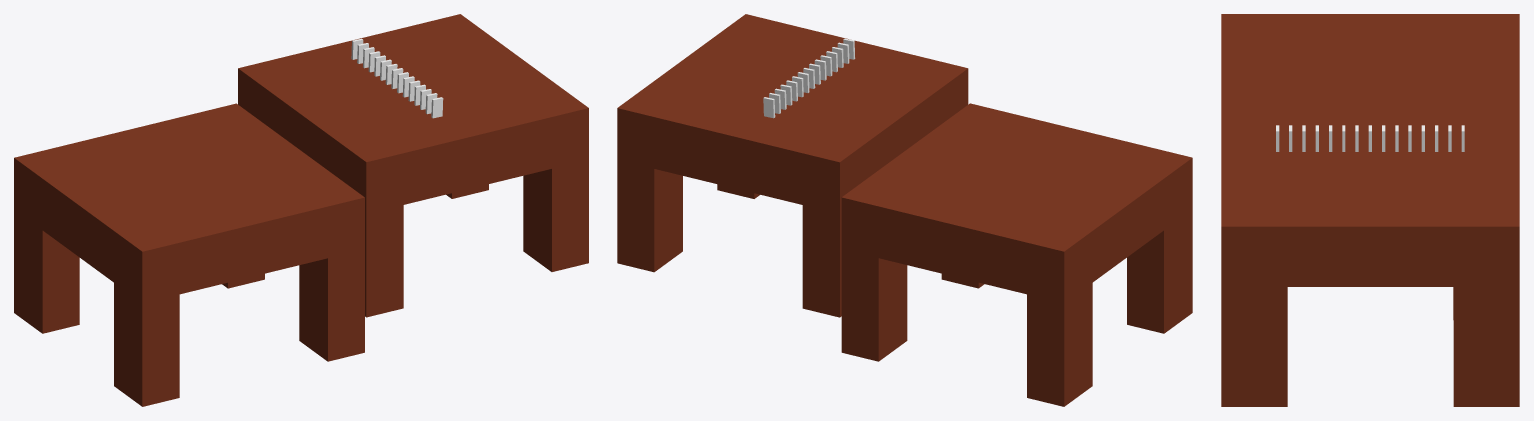
Rendered from domino_env_15.dae.
The picture shows the model from 3 angles, left to right: view 1: azimuth 30°, elevation 25°; view 2: azimuth 150°, elevation 25°; view 3: azimuth 270°, elevation 25°; orthographic projection. The views are drawn at different scales.
Parts seen in each view (by area): view 1: base (×7); view 2: base (×7); view 3: base (×4).
Part boxes in pixels (<box>): base (×7): <box>14,14,588,406</box>; base (×7): <box>617,14,1192,406</box>; base (×4): <box>1221,14,1519,406</box>.
Bounding box in the file's own units: 1.81 × 0.9009 × 0.8227.
